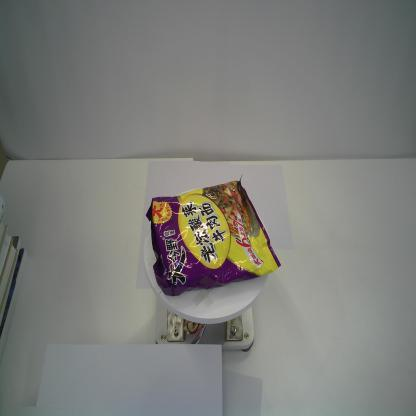Instant Noodles: (145, 173, 283, 300)
